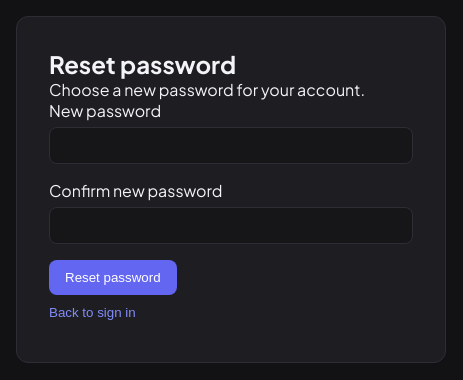
Test case: password recovery › validates and submits the original password, then clears fields
Type " abcdef " into the password field labelled "New password" at (231, 145), box [49,127,413,164]
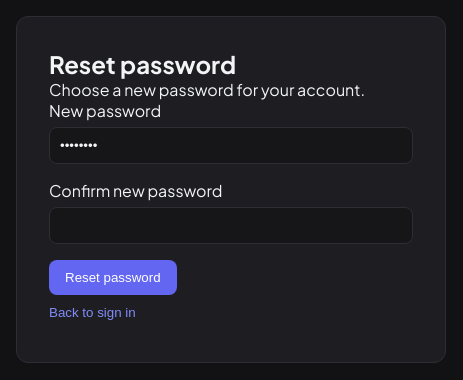
Type " abcdef " into the password field labelled "Confirm new password" at (231, 225), box [49,207,413,244]
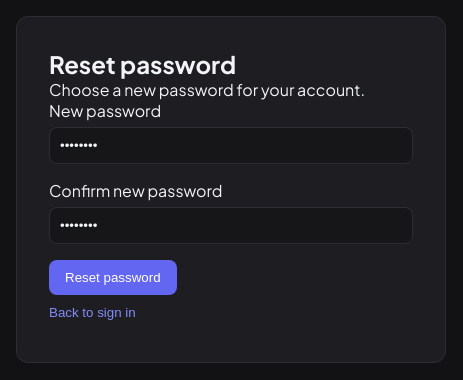
Click the button "Reset password" at (113, 277), box [49,260,177,295]
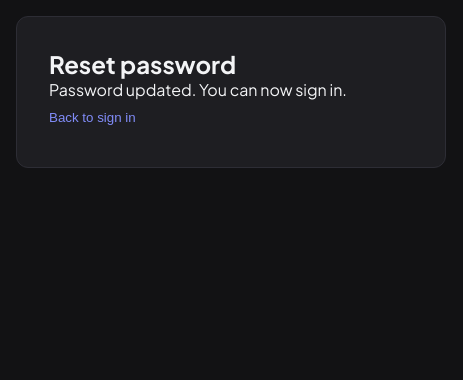
Expected: the message shows "Password updated", [49,79,347,100]
